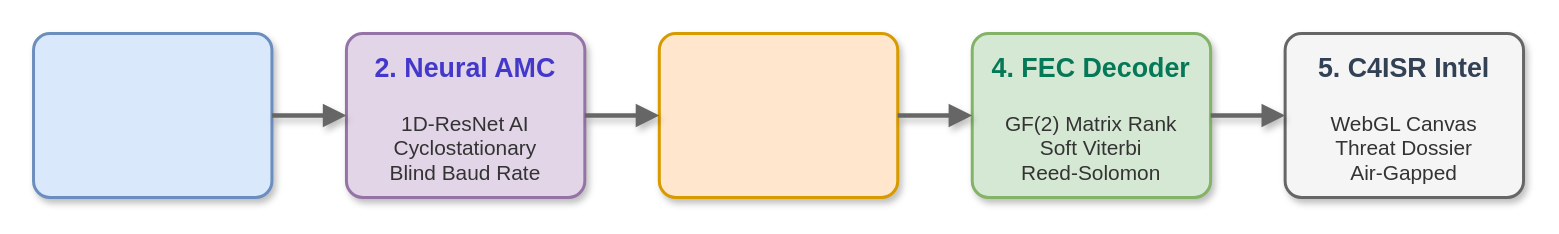
This 1559x234 diagram has some shape labels left out. Each missing label, with the centre of its shape:
1. RF Ingestion Raw .IQ / .wav Welch PSD Decimation: the point at 153,117
3. Demodulation Costas PLL Gardner TED Soft Symbols: the point at 779,117
